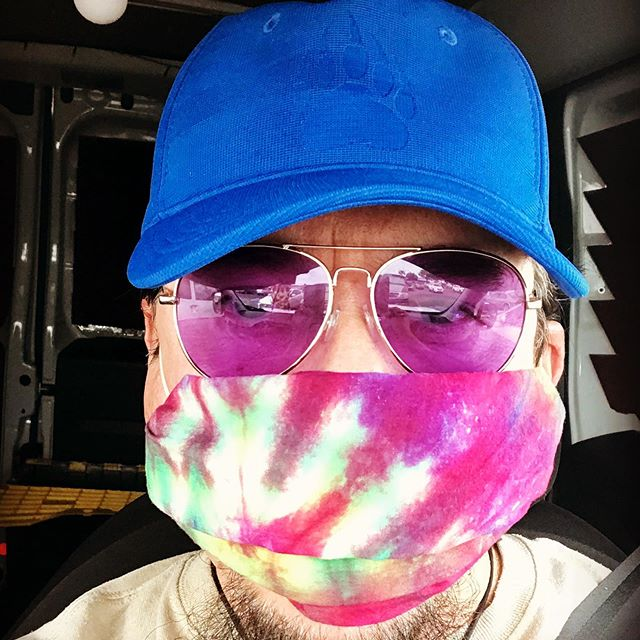homemade: (141, 365, 573, 588)
